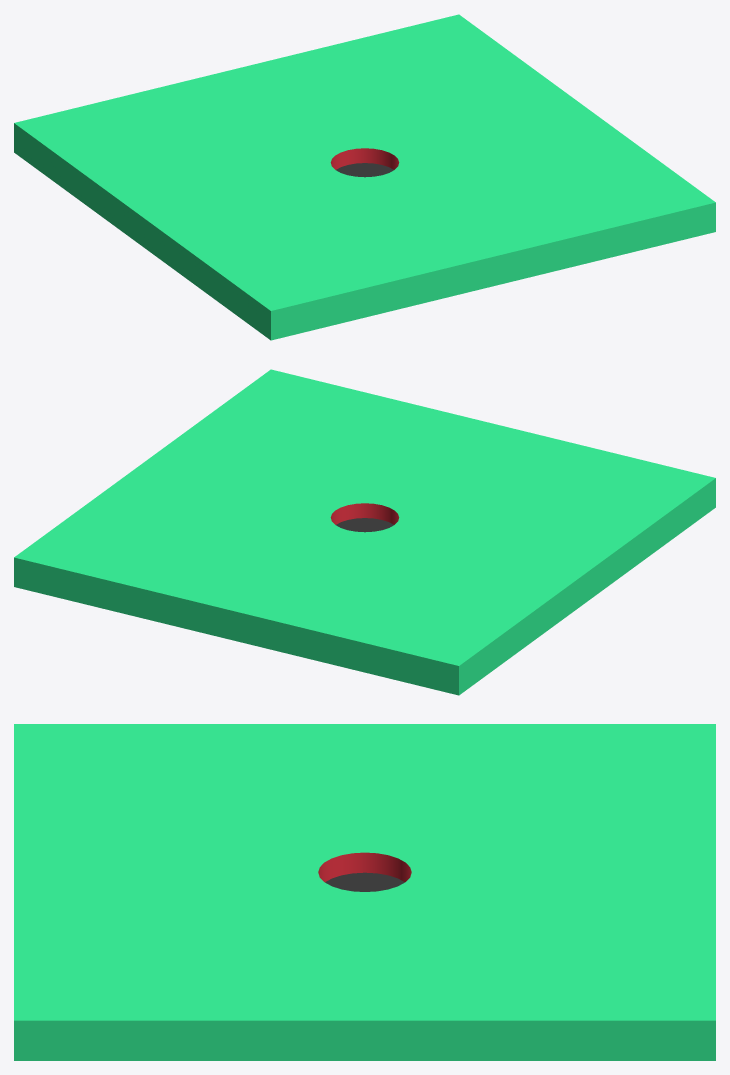
Rendered from holeOpen.fbx.
3 views of the same model, one above another, from view 1: azimuth 30°, elevation 25°; view 2: azimuth 150°, elevation 25°; view 3: azimuth 270°, elevation 25° (orthographic). The views are drawn at different scales.
Visible parts, largest first — view 1: holeOpen; view 2: holeOpen; view 3: holeOpen.
Part boxes in pixels (x1,y1,x2,y2): holeOpen: (14,14,715,340); holeOpen: (14,369,715,695); holeOpen: (14,724,715,1060).
Size of the model in its own units: 10 by 0.6333 by 10.
